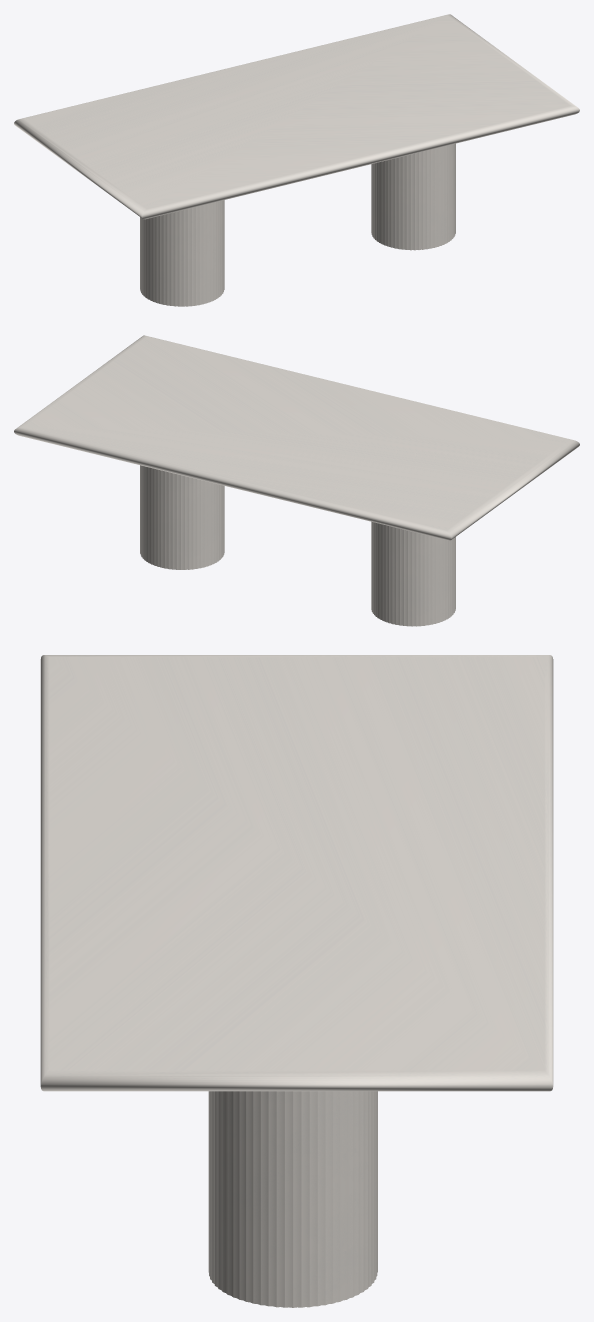
The model's file is pearlwhite_recta_round_ripplesecond.glb.
3 renders of one model, top to bottom at view 1: azimuth 30°, elevation 25°; view 2: azimuth 150°, elevation 25°; view 3: azimuth 270°, elevation 25°, orthographic. The views are drawn at different scales.
Visible parts, largest first — view 1: round_recta, ripplesecond; view 2: round_recta, ripplesecond; view 3: round_recta, ripplesecond.
Boxes of the visible parts, left/top/right/bottom form: round_recta: left=14, top=14, right=579, bottom=219; ripplesecond: left=140, top=143, right=455, bottom=306; round_recta: left=14, top=335, right=579, bottom=540; ripplesecond: left=140, top=465, right=455, bottom=626; round_recta: left=40, top=655, right=553, bottom=1091; ripplesecond: left=208, top=1091, right=377, bottom=1307.
Size of the model in its own units: 7.76 by 2.5 by 3.93.
1 material, 1 textured.
